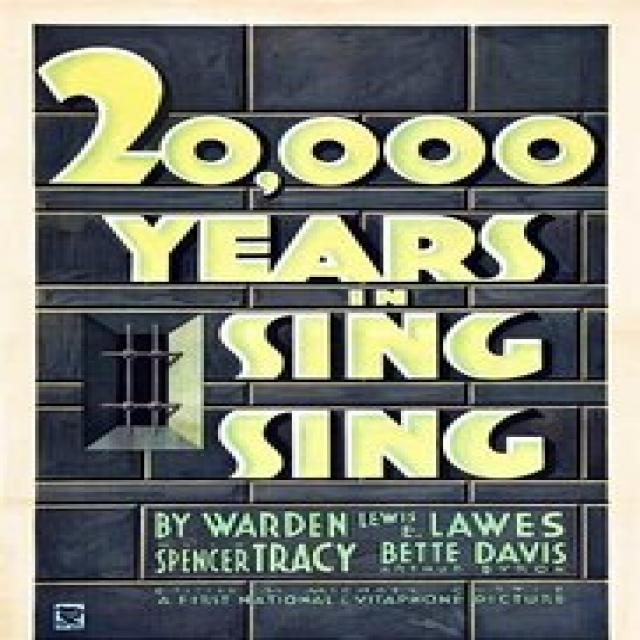movie-judul: (42, 44, 580, 486)
